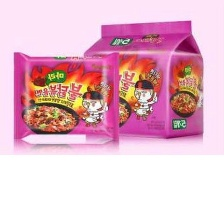snack: (79, 14, 209, 145), (7, 46, 128, 146)
